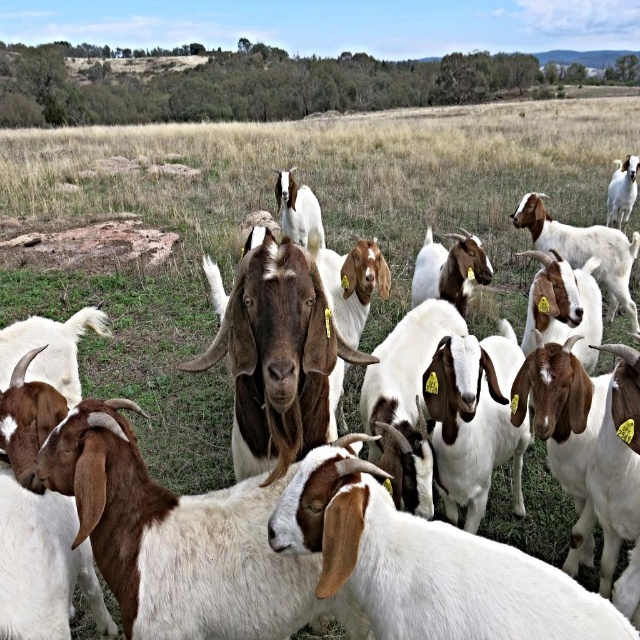Goat: (0, 155, 640, 639)
